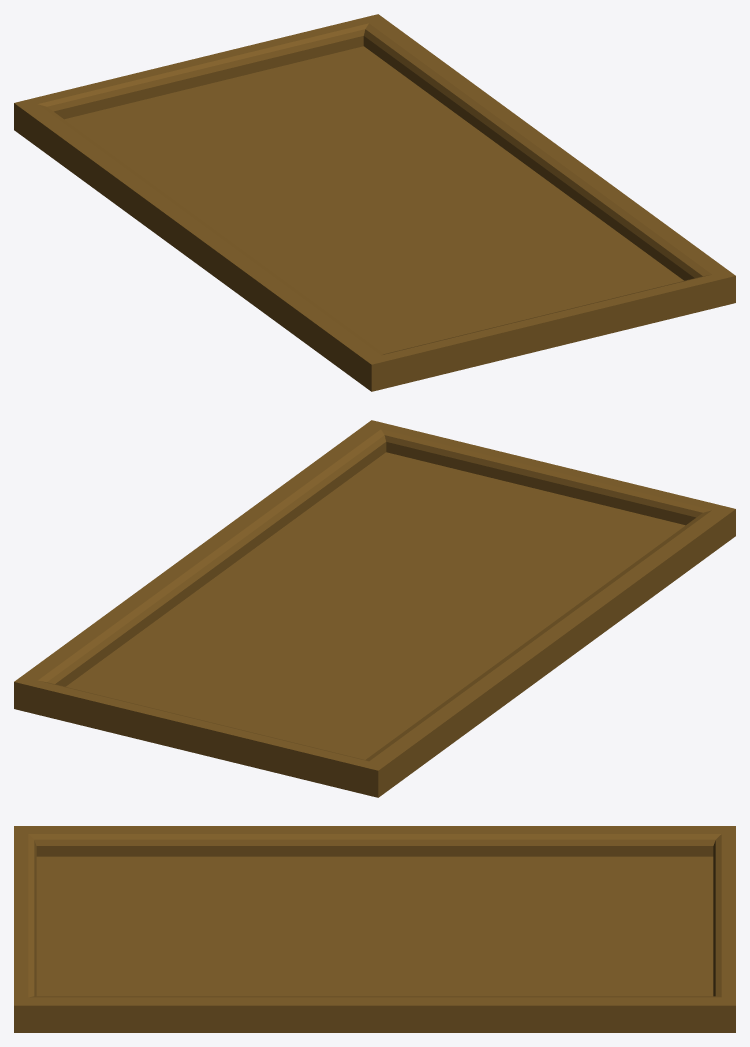
The model's file is Item_pariwasata_Serving_Tray.fbx.
The picture shows the model from 3 angles, top to bottom: view 1: azimuth 30°, elevation 25°; view 2: azimuth 150°, elevation 25°; view 3: azimuth 270°, elevation 25°; orthographic projection.
Visible parts, largest first — view 1: serving tray; view 2: serving tray; view 3: serving tray.
Part boxes in pixels (bbox=[...]): serving tray: bbox=[14, 14, 735, 391]; serving tray: bbox=[14, 420, 735, 797]; serving tray: bbox=[14, 826, 735, 1032].
Bounding box in the file's own units: 266 × 18.94 × 452.
